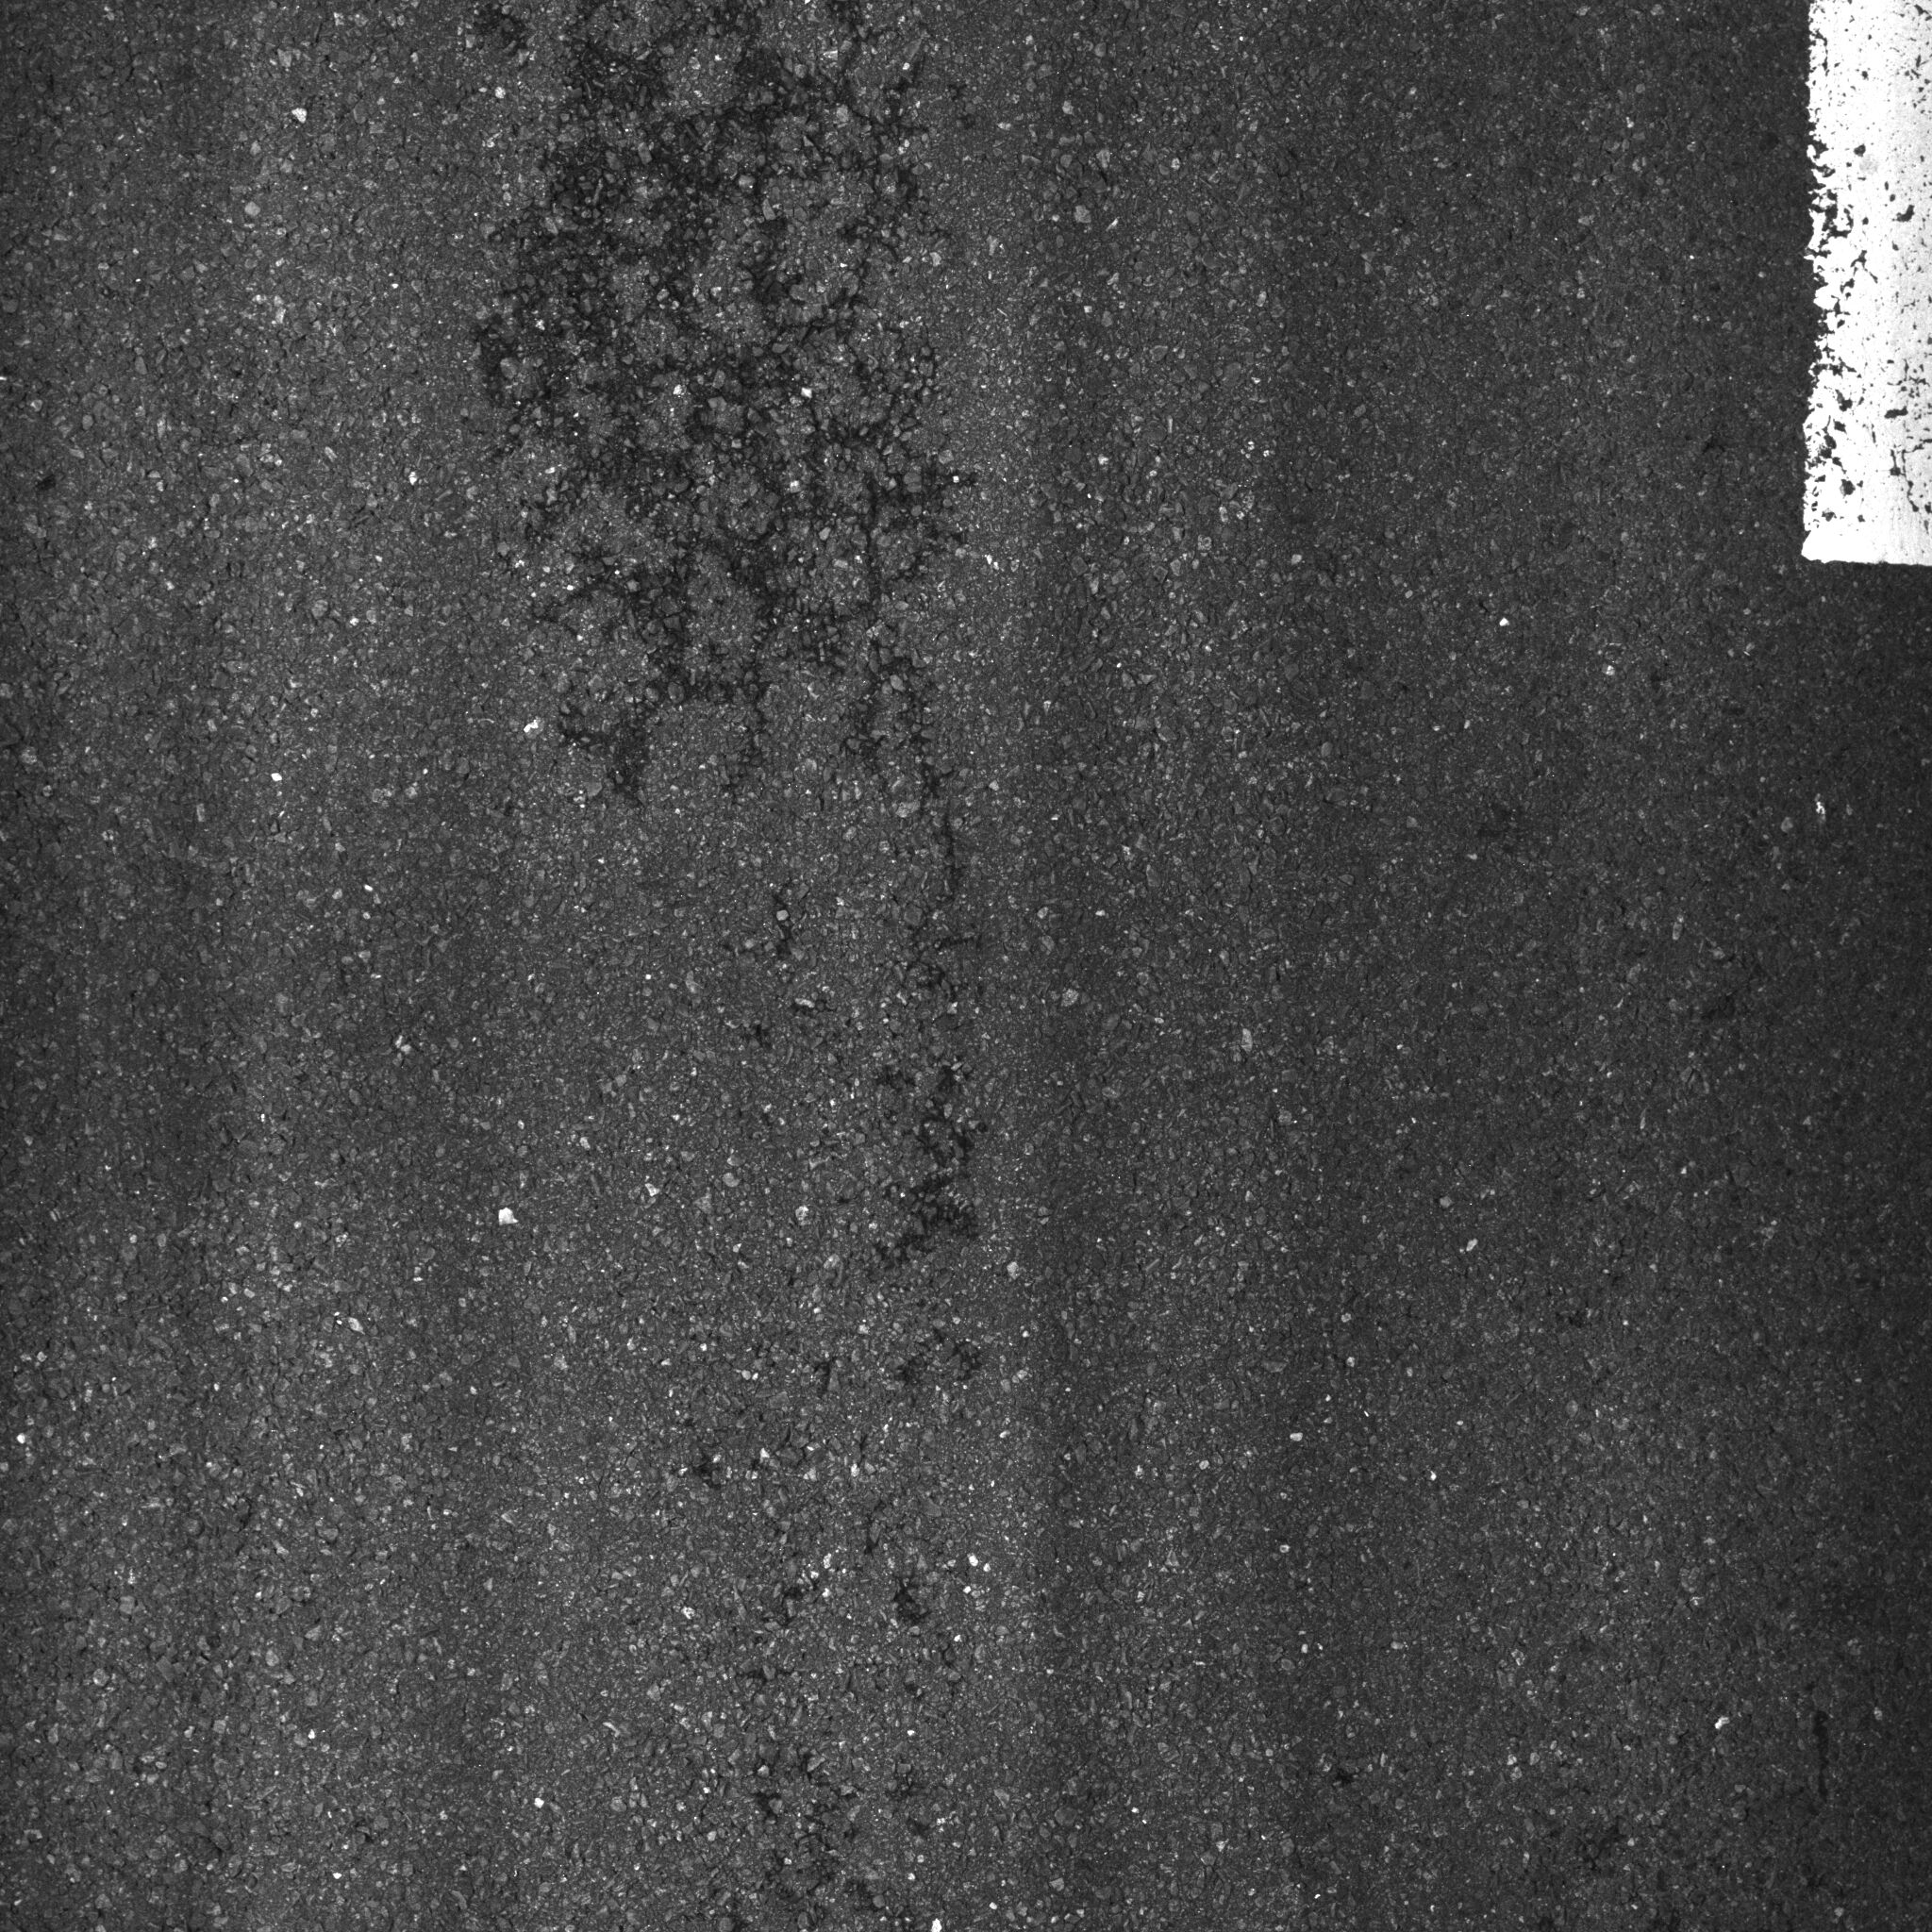alligator: (448, 2, 1010, 1279)
